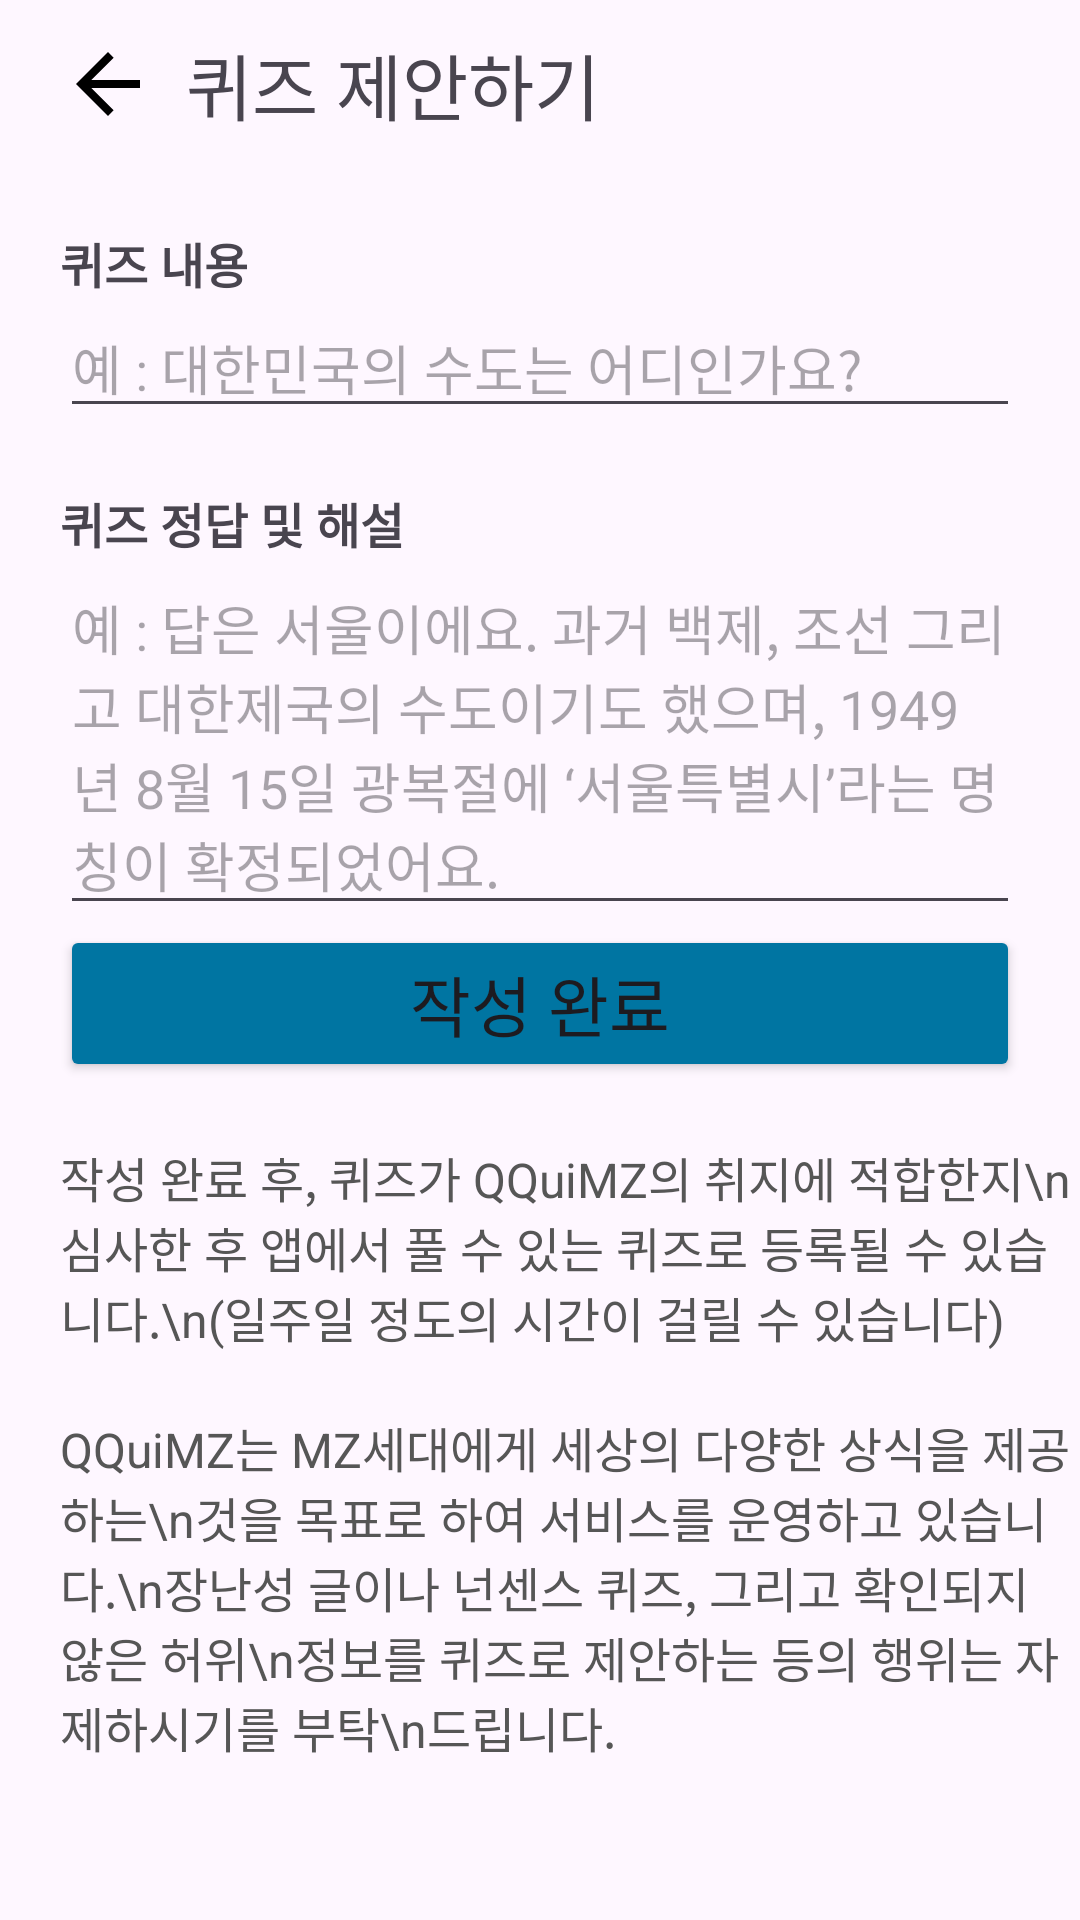

Screen size 1080px x 1920px. Icon name, then its center in pixels as (x,y):
arrow back: (108,84)
